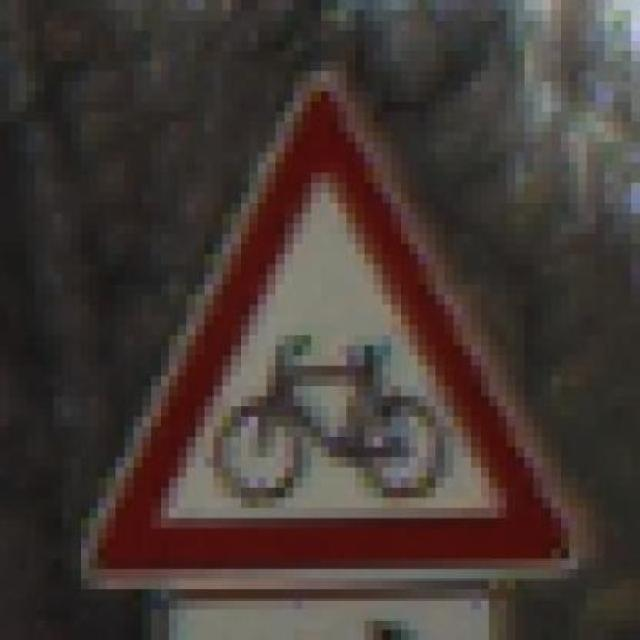CYCLE ROUTE AHEAD WARNING: (62, 51, 596, 589)
